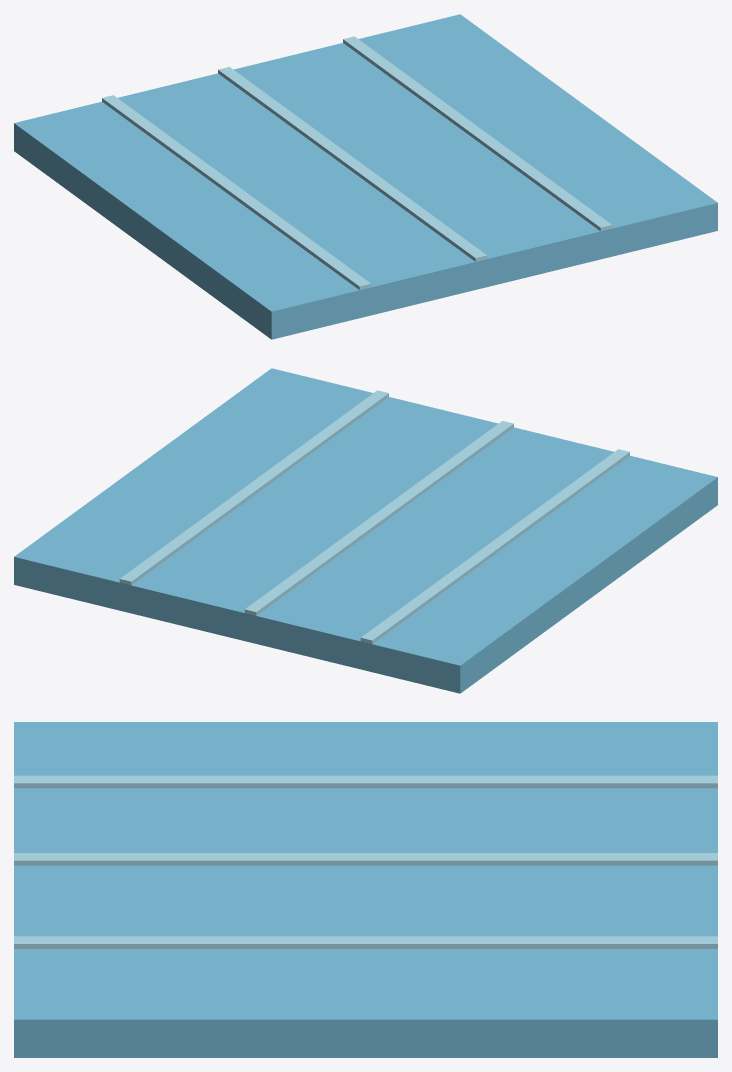
The model's file is river.glb.
3 renders of one model, top to bottom at view 1: azimuth 30°, elevation 25°; view 2: azimuth 150°, elevation 25°; view 3: azimuth 270°, elevation 25°, orthographic. The views are drawn at different scales.
Visible parts, largest first — view 1: river_water, flow_line_2, flow_line_0, flow_line_1; view 2: river_water, flow_line_2, flow_line_0, flow_line_1; view 3: river_water, flow_line_0, flow_line_1, flow_line_2.
Part boxes in pixels (left/top/right/bottom): river_water: left=14, top=14, right=717, bottom=339; flow_line_2: left=343, top=36, right=612, bottom=231; flow_line_0: left=102, top=95, right=371, bottom=290; flow_line_1: left=218, top=67, right=487, bottom=261; river_water: left=14, top=368, right=717, bottom=693; flow_line_2: left=119, top=390, right=388, bottom=585; flow_line_0: left=360, top=449, right=629, bottom=644; flow_line_1: left=244, top=421, right=513, bottom=615; river_water: left=14, top=722, right=717, bottom=1057; flow_line_0: left=14, top=775, right=717, bottom=788; flow_line_1: left=14, top=853, right=717, bottom=865; flow_line_2: left=14, top=936, right=717, bottom=948.
Size of the model in its own units: 1 by 0.068 by 1.
